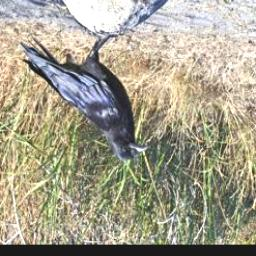Crow: (18, 25, 149, 166)
